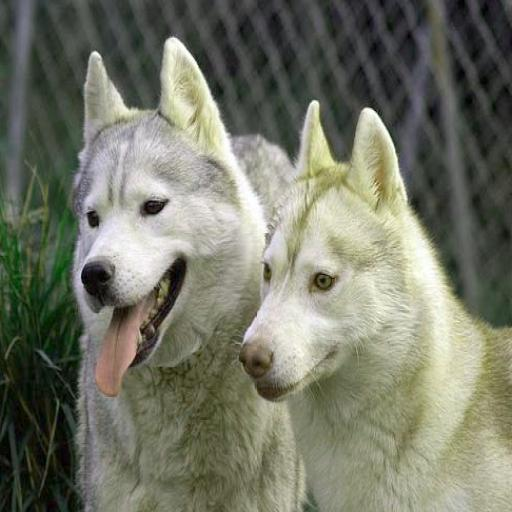dog_face: (245, 100, 410, 402), (82, 50, 210, 364)
